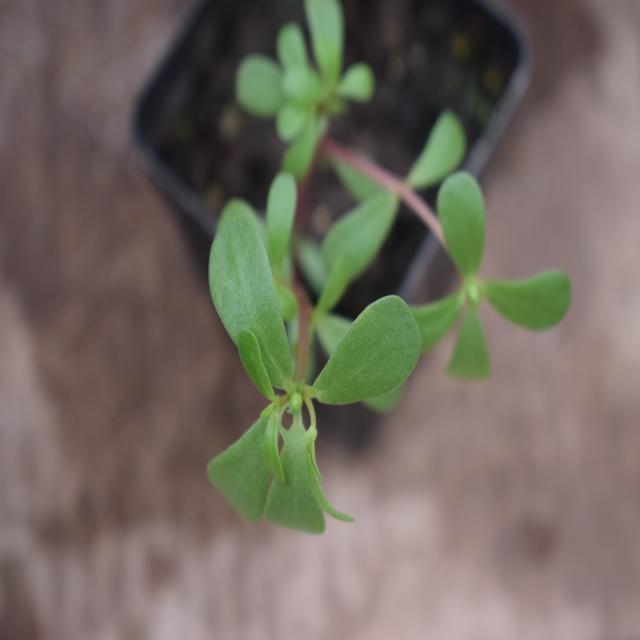purslane: (185, 31, 571, 541)
